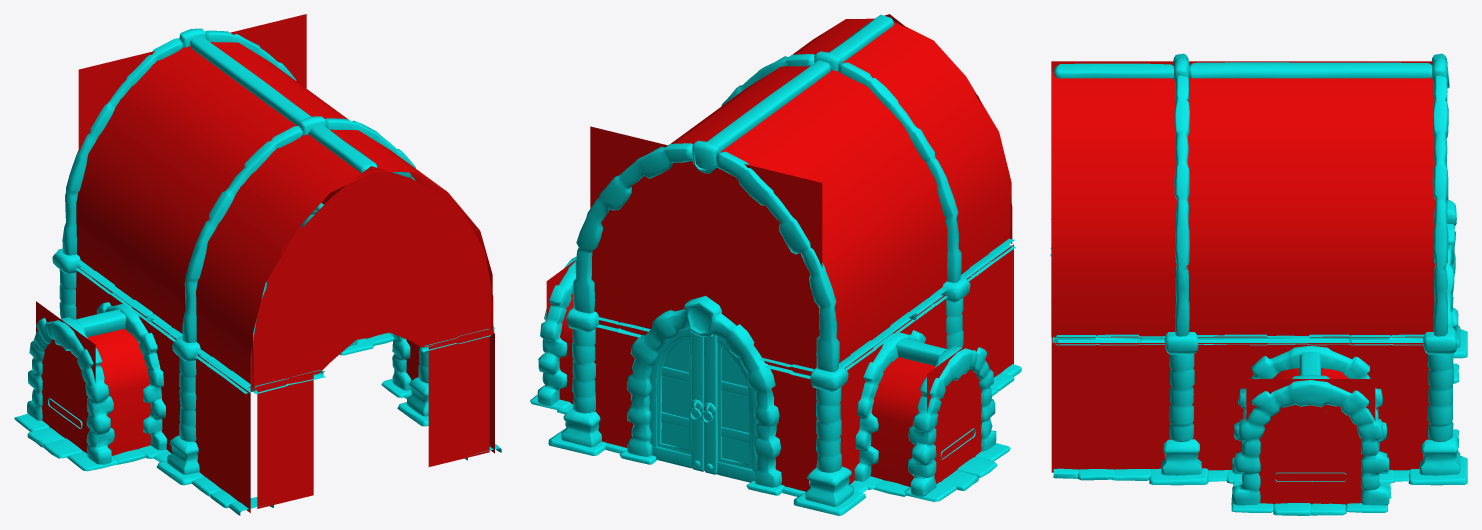
The model's file is Hallway_DeadEnd_3.fbx.
The picture shows the model from 3 angles, left to right: view 1: azimuth 30°, elevation 25°; view 2: azimuth 150°, elevation 25°; view 3: azimuth 270°, elevation 25°; orthographic projection. The views are drawn at different scales.
Visible parts, largest first — view 1: polySurface281, polySurface286; view 2: polySurface281, polySurface286, SM_WoodenDoor_2:polySurface322; view 3: polySurface281, polySurface286.
Boxes of the visible parts, box(x1,y1,x2,y2) form: polySurface281: box(36, 14, 494, 512); polySurface286: box(14, 28, 501, 515); polySurface281: box(546, 14, 1013, 491); polySurface286: box(530, 14, 1021, 515); SM_WoodenDoor_2:polySurface322: box(649, 328, 757, 482); polySurface281: box(1051, 61, 1435, 504); polySurface286: box(1050, 53, 1467, 515).
Size of the model in its own units: 1193 by 970 by 896.
